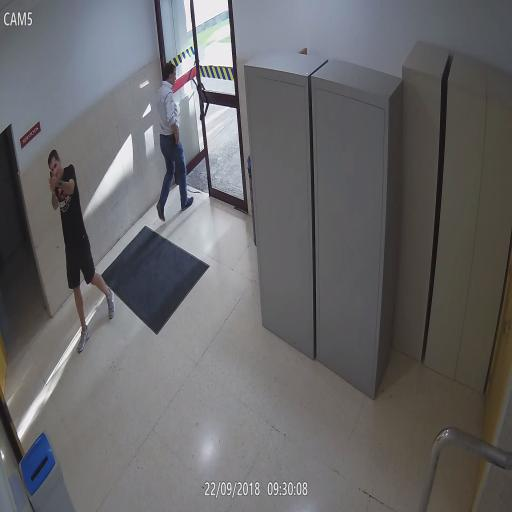Handgun: (48, 170, 58, 191), (170, 130, 180, 146)
